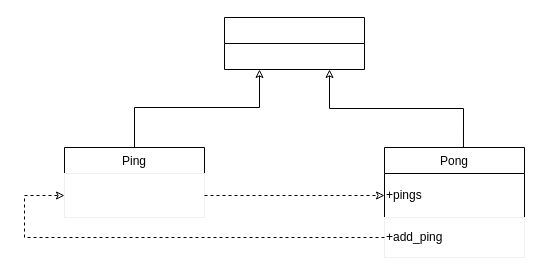
This 542x275 diagram has some shape labels left out. The centre of each missing label's shape, as x and y in pixels:
+pong: the point at 134,195
PingPongParent: the point at 294,43
